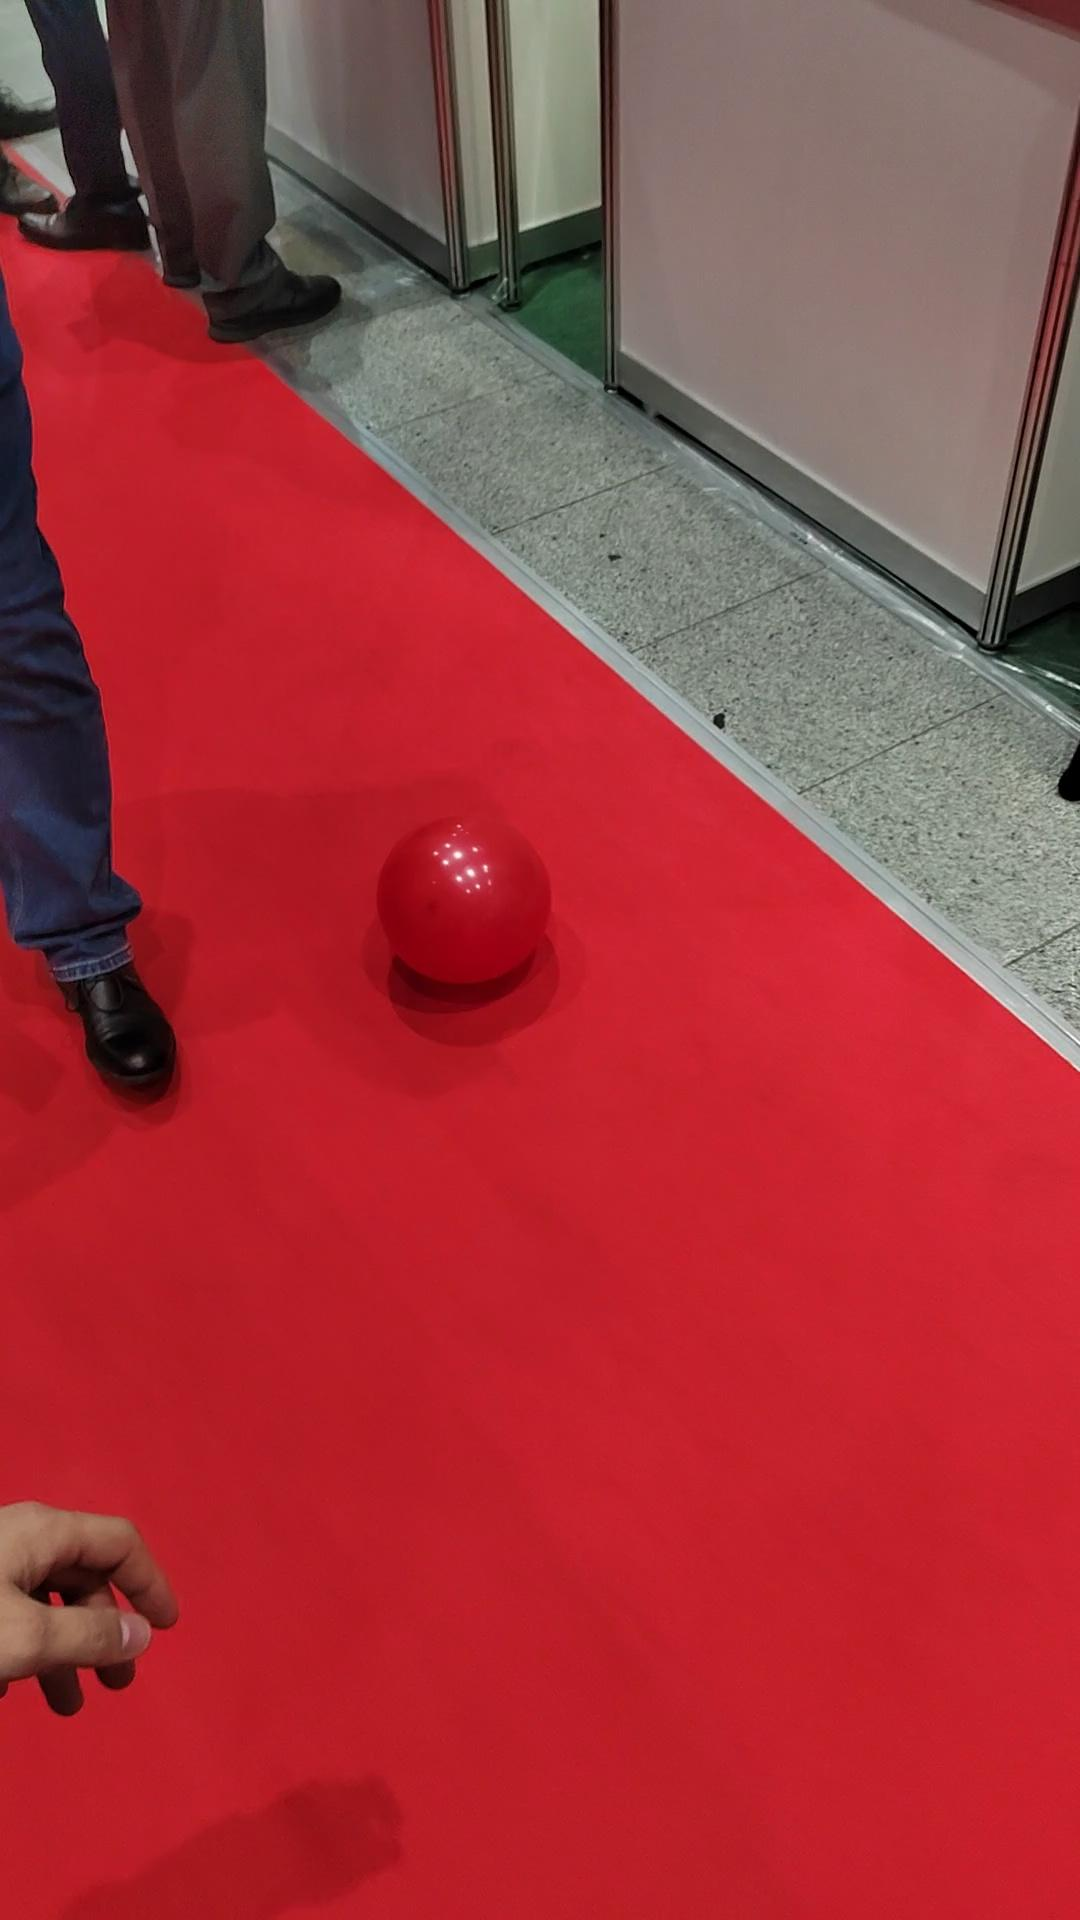red: (376, 814, 547, 985)
